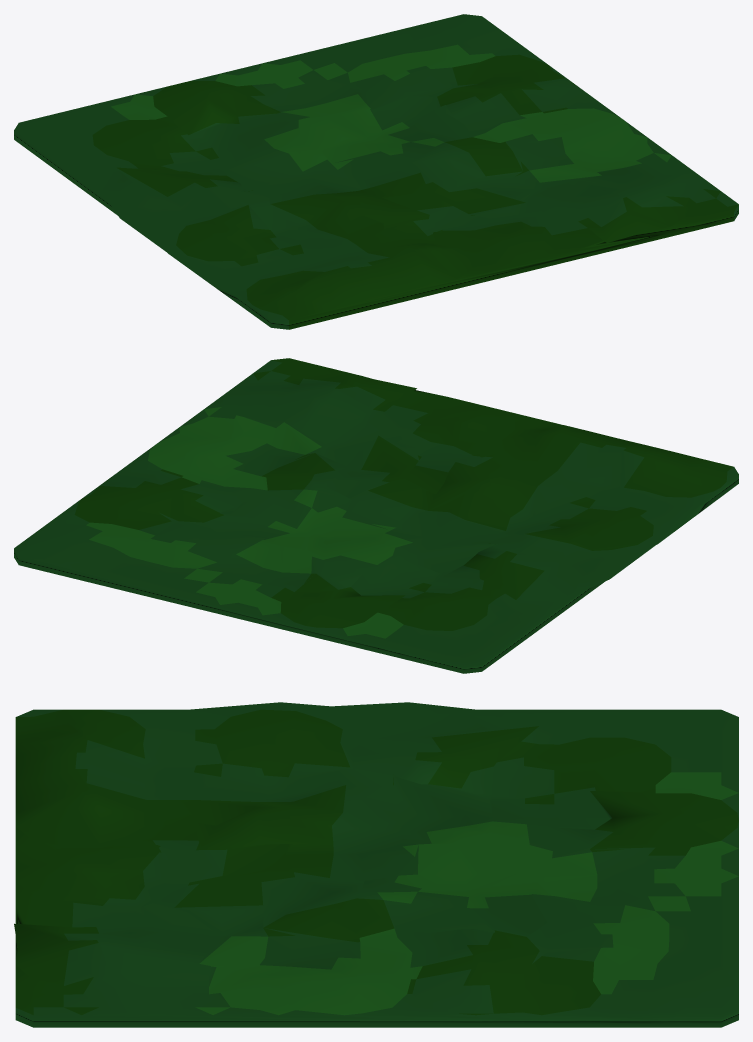
Rendered from land6.fbx.
3 renders of one model, top to bottom at view 1: azimuth 30°, elevation 25°; view 2: azimuth 150°, elevation 25°; view 3: azimuth 270°, elevation 25°, orthographic. The views are drawn at different scales.
Parts seen in each view (by area): view 1: land6; view 2: land6; view 3: land6.
Part boxes in pixels (left/top/right/bottom): land6: left=14, top=14, right=738, bottom=329; land6: left=14, top=358, right=738, bottom=673; land6: left=14, top=702, right=738, bottom=1027.
Bounding box in the file's own units: 10233 × 535 × 10025.
